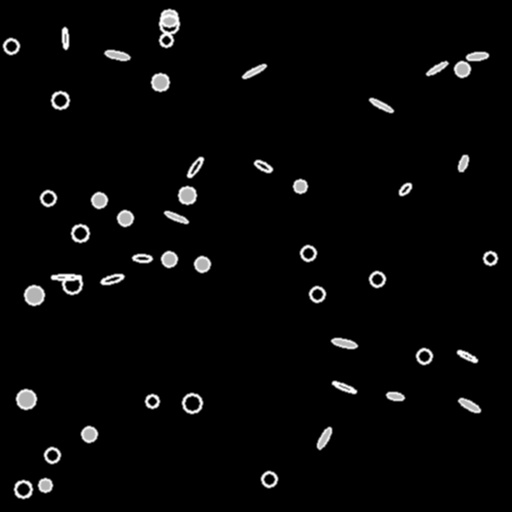pseudomonas: (457, 396, 481, 414), (315, 427, 333, 449), (186, 156, 204, 178), (369, 97, 393, 113), (242, 63, 266, 79), (426, 60, 448, 76), (332, 380, 356, 394), (164, 210, 188, 224), (253, 158, 273, 174), (104, 49, 130, 61), (100, 273, 124, 285), (332, 337, 356, 349), (457, 349, 477, 363), (398, 181, 412, 197), (457, 154, 469, 172), (466, 52, 488, 60), (51, 275, 80, 280), (133, 254, 151, 262), (387, 392, 403, 400), (62, 28, 68, 48)
synechocystis: (25, 286, 43, 304), (63, 275, 81, 293), (183, 394, 201, 412), (160, 15, 178, 33), (17, 390, 35, 408), (72, 225, 88, 241), (15, 481, 31, 497), (152, 74, 168, 90), (52, 92, 68, 108), (161, 10, 177, 26), (179, 187, 195, 203), (195, 257, 209, 271), (92, 193, 106, 207), (455, 62, 469, 76), (162, 252, 176, 266), (82, 427, 96, 441), (301, 246, 315, 260), (4, 39, 18, 53), (310, 287, 324, 301), (262, 472, 276, 486), (45, 448, 59, 462), (41, 191, 55, 205), (370, 272, 384, 286), (118, 211, 132, 225), (417, 349, 431, 363), (294, 180, 306, 192), (160, 34, 172, 46), (484, 252, 496, 264), (146, 395, 158, 407), (39, 479, 51, 491)
